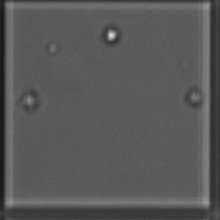Dead Cell: (17, 88, 44, 113), (181, 85, 208, 110)
Living Cell: (100, 23, 124, 46)
